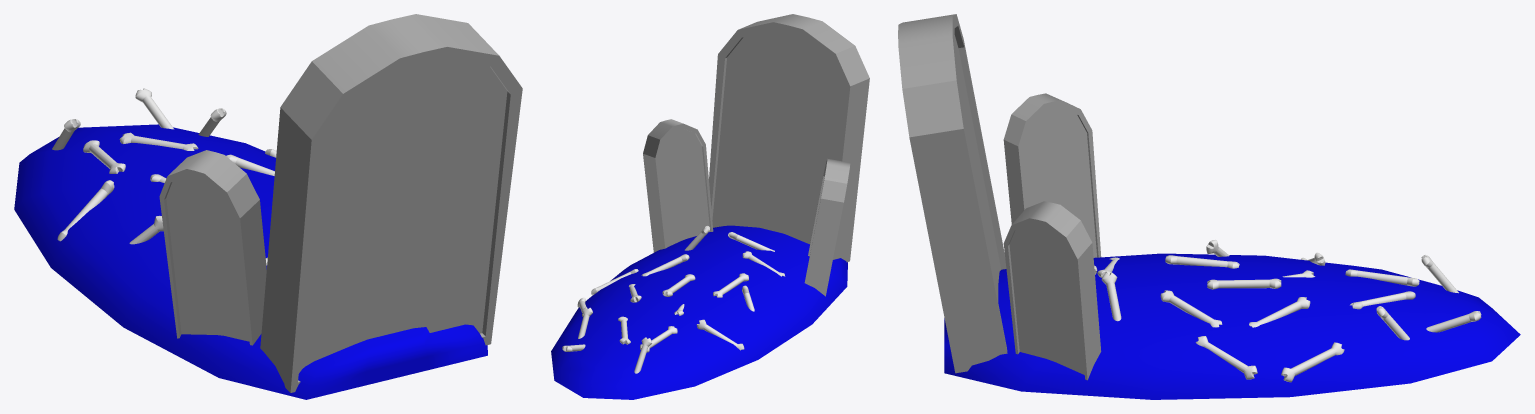
Rendered from spike factory path 3.fbx.
The picture shows the model from 3 angles, left to right: view 1: azimuth 30°, elevation 25°; view 2: azimuth 150°, elevation 25°; view 3: azimuth 270°, elevation 25°; orthographic projection. The views are drawn at different scales.
Parts seen in each view (by area): view 1: spike_factory_path_3; view 2: spike_factory_path_3; view 3: spike_factory_path_3.
Part boxes in pixels (bbox=[...]): spike_factory_path_3: bbox=[14, 14, 522, 399]; spike_factory_path_3: bbox=[551, 14, 869, 399]; spike_factory_path_3: bbox=[898, 14, 1520, 399].
Size of the model in its own units: 243 by 257 by 469.
